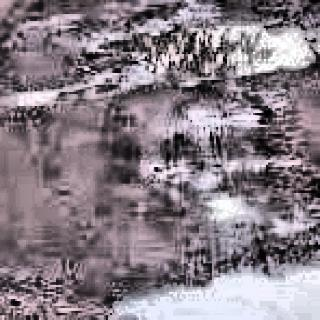pothole: (109, 14, 307, 83), (86, 267, 320, 316), (174, 155, 290, 230), (216, 107, 272, 130), (23, 82, 61, 112)
